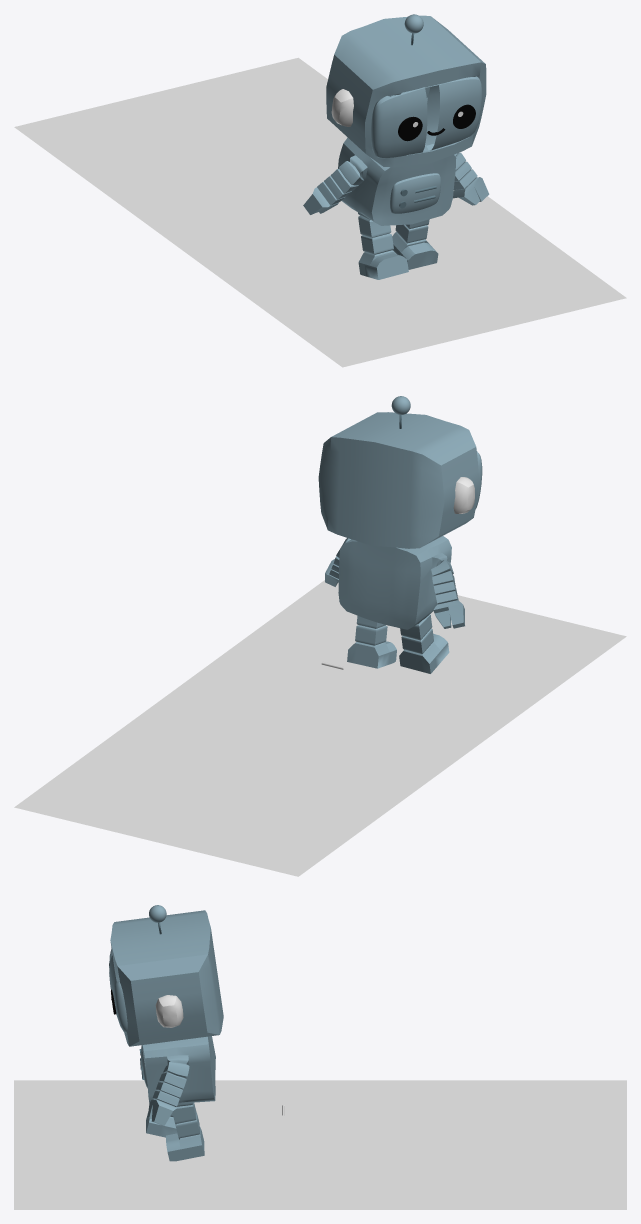
File: proyRobot.glb
3 renders of one model, top to bottom at view 1: azimuth 30°, elevation 25°; view 2: azimuth 150°, elevation 25°; view 3: azimuth 270°, elevation 25°, orthographic. The views are drawn at different scales.
Parts seen in each view (by area): view 1: Plane, Cuello, Cara, Pancita, Ojos, Orejas; view 2: Plane, Cuello, Orejas; view 3: Plane, Cuello, Orejas, Cara.
Part boxes in pixels (x1,y1,x2,y2): Plane: (14,57,626,367); Cuello: (303,15,489,279); Cara: (371,76,482,158); Pancita: (390,173,440,213); Ojos: (398,104,475,141); Orejas: (331,89,353,126); Plane: (14,580,626,876); Cuello: (318,412,479,673); Orejas: (453,477,474,513); Plane: (14,1080,626,1209); Cuello: (110,910,223,1161); Orejas: (155,995,183,1027); Cara: (109,948,127,1033).
Bounding box in the file's own units: 5 × 4.38 × 10.
